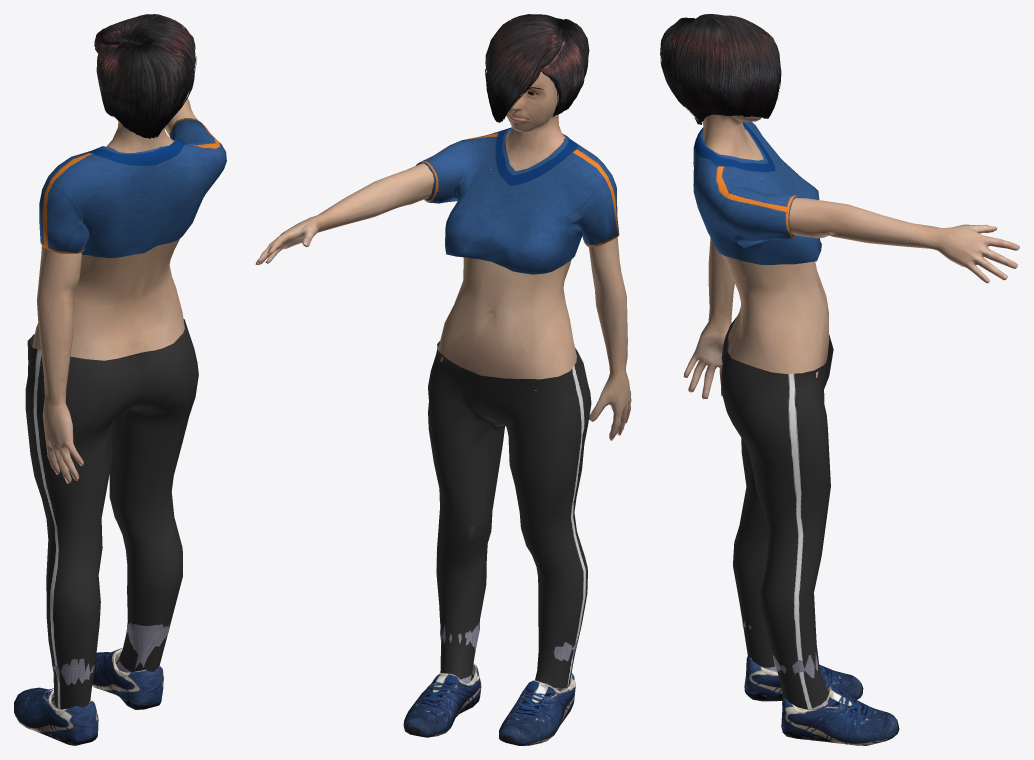
File: pointing_3.gltf
3 renders of one model, left to right at view 1: azimuth 30°, elevation 25°; view 2: azimuth 150°, elevation 25°; view 3: azimuth 270°, elevation 25°, orthographic. The views are drawn at different scales.
Parts seen in each view (by area): view 1: pointing; view 2: pointing; view 3: pointing.
Boxes of the visible parts, x1=… form: pointing: x1=14, y1=14, x2=226, y2=745; pointing: x1=255, y1=14, x2=631, y2=745; pointing: x1=660, y1=14, x2=1019, y2=745.
Bounding box in the file's own units: 0.5577 × 1.51 × 0.6999.
Materials: 6 (6 with a texture image).
